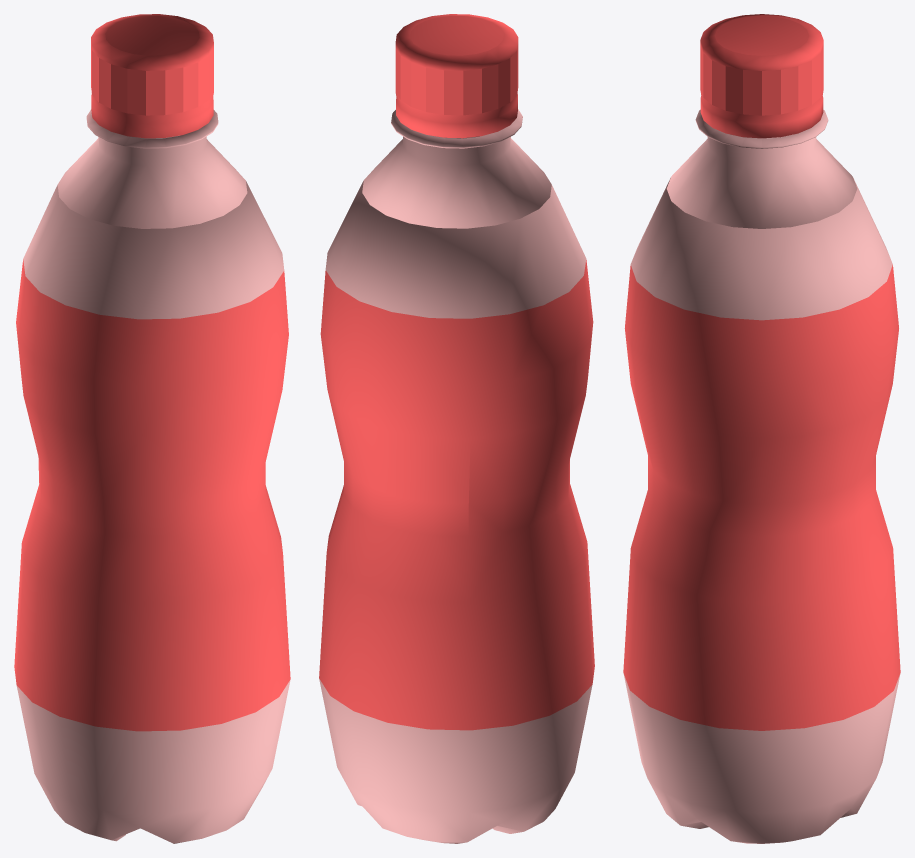
Rendered from Peach Soda.fbx.
3 views of the same model, side by side, from view 1: azimuth 30°, elevation 25°; view 2: azimuth 150°, elevation 25°; view 3: azimuth 270°, elevation 25° (orthographic).
Parts seen in each view (by area): view 1: Node 0; view 2: Node 0; view 3: Node 0.
Part boxes in pixels (x1,y1,x2,y2): Node 0: (14, 14, 290, 843); Node 0: (319, 14, 594, 843); Node 0: (623, 14, 900, 843).
Bounding box in the file's own units: 0.0658 × 0.2045 × 0.0658.
